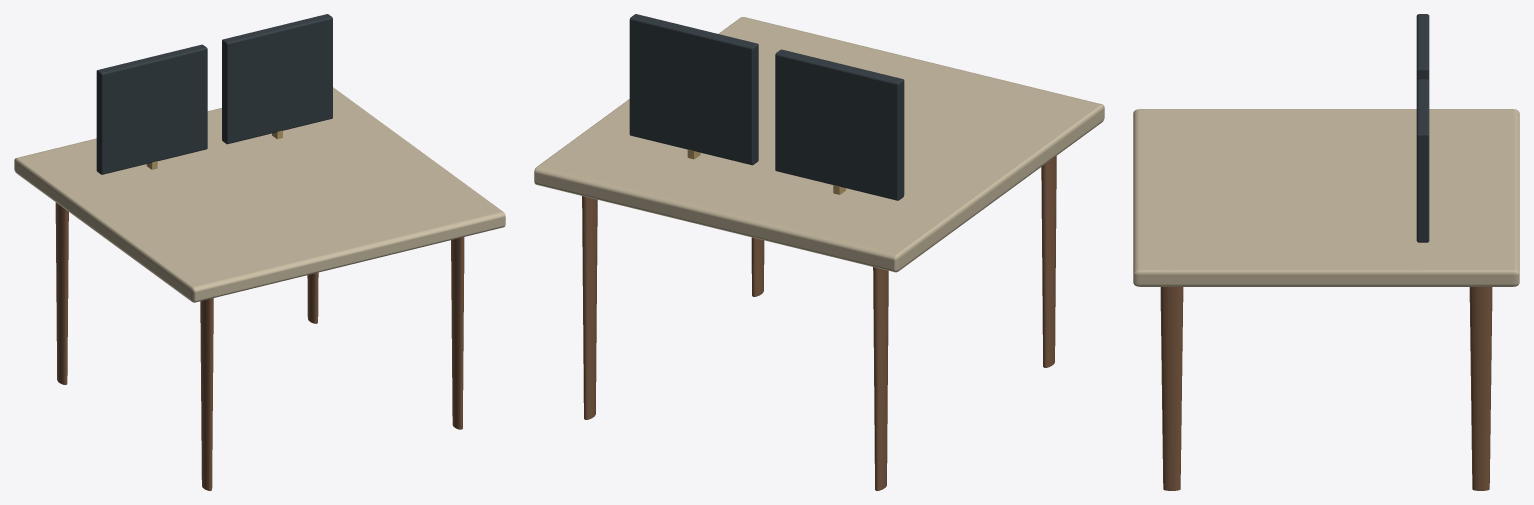
File: desk-20-0.glb
3 views of the same model, side by side, from view 1: azimuth 30°, elevation 25°; view 2: azimuth 150°, elevation 25°; view 3: azimuth 270°, elevation 25° (orthographic). The views are drawn at different scales.
Parts seen in each view (by area): view 1: upholstery (×2), part; view 2: upholstery (×2), part; view 3: upholstery (×2), part.
Part boxes in pixels (x1,y1,x2,y2): upholstery (×2): (14, 14, 505, 302); part: (55, 202, 464, 490); upholstery (×2): (534, 14, 1104, 272); part: (582, 156, 1056, 490); upholstery (×2): (1133, 14, 1519, 286); part: (1160, 287, 1492, 490).
Size of the model in its own units: 1 by 1 by 1.
